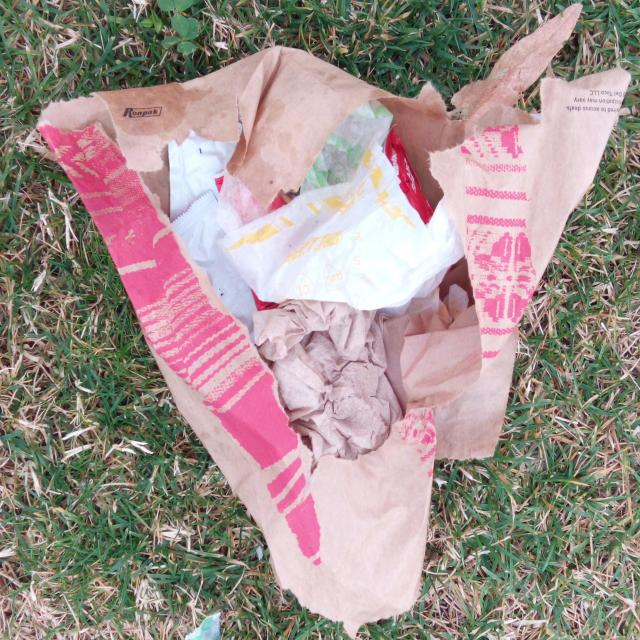litter: (1, 10, 630, 638)
